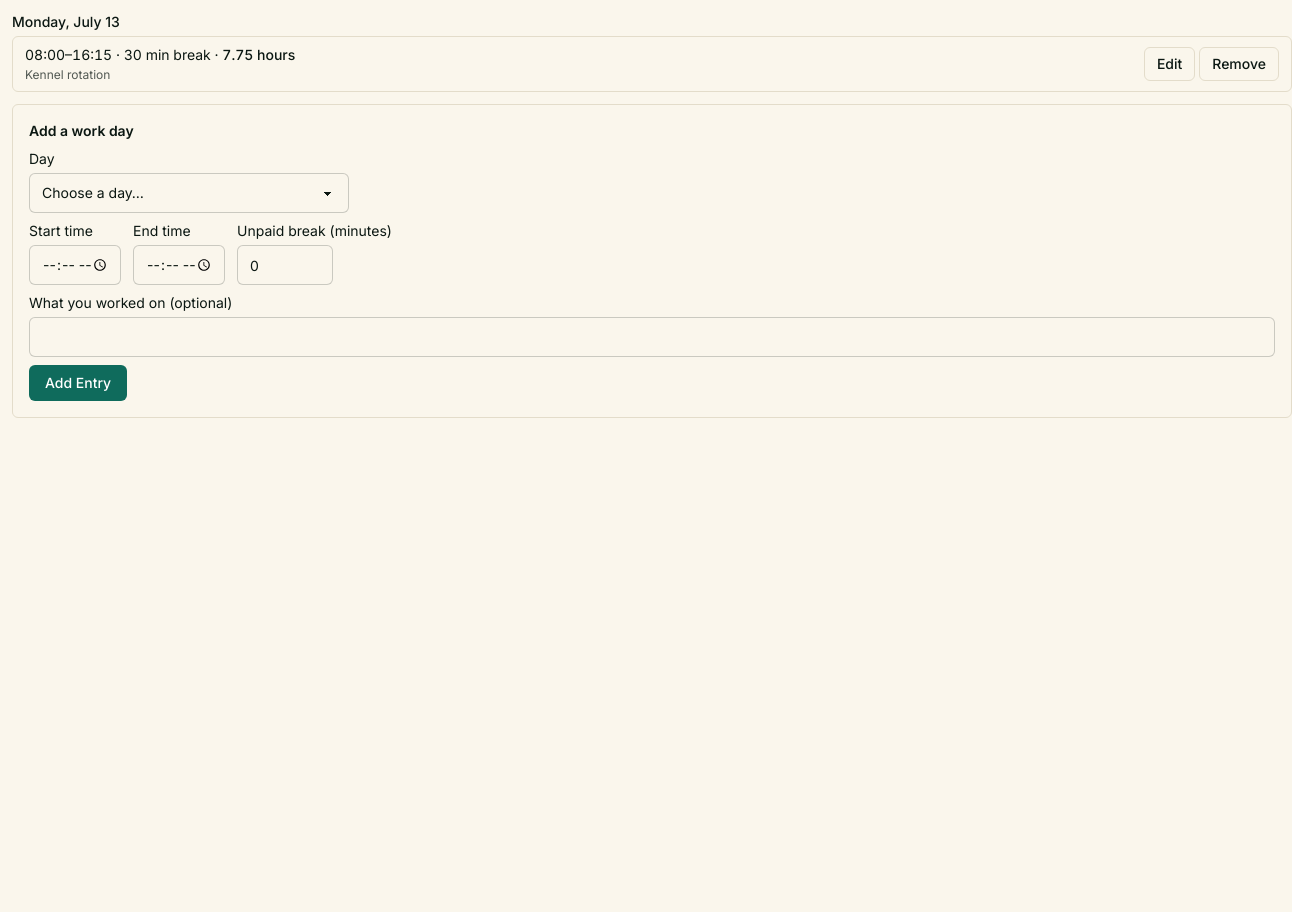
WorkEntryEditor (Story 6.2) › opens an edit form pre-filled from the entry
Click the button "Edit" at (1170, 64), box [1144,47,1195,81]
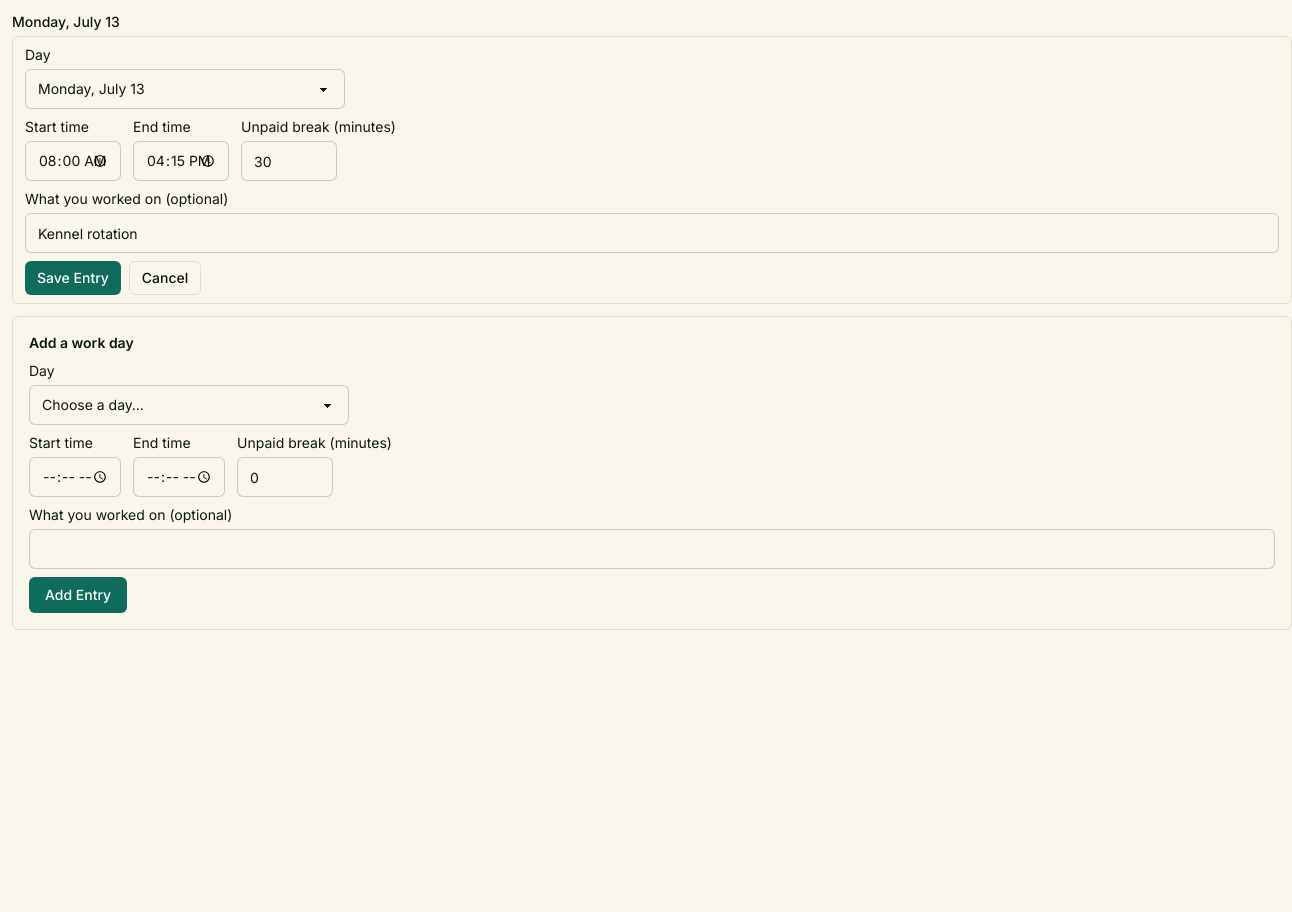
Check: the button "Save Entry" is shown, box [25,261,121,295]
Check: the time field labelled "Start time" below "Monday, July 13" holds "08:00", box [25,141,121,181]
